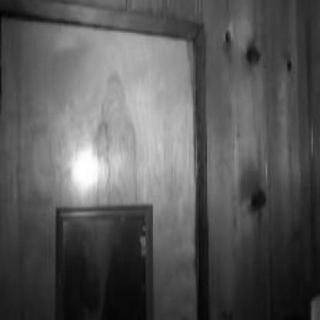other: (64, 144, 119, 203)
